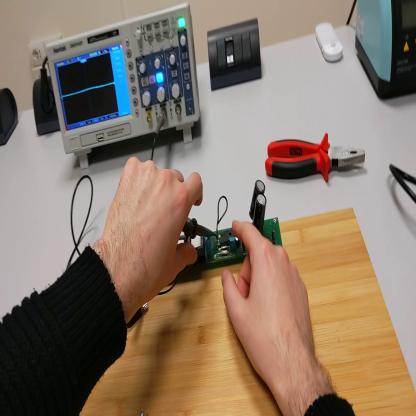hand: (222, 218, 319, 393), (104, 159, 202, 308)
high voltage board: (179, 178, 282, 270)
oscilloscope: (43, 2, 204, 178)
oscilloscope probe tip: (183, 220, 216, 242)
pliers: (263, 131, 367, 183)
socket: (30, 78, 62, 138), (1, 81, 21, 150)
welder station: (358, 3, 415, 103)
working area: (81, 212, 416, 415)
